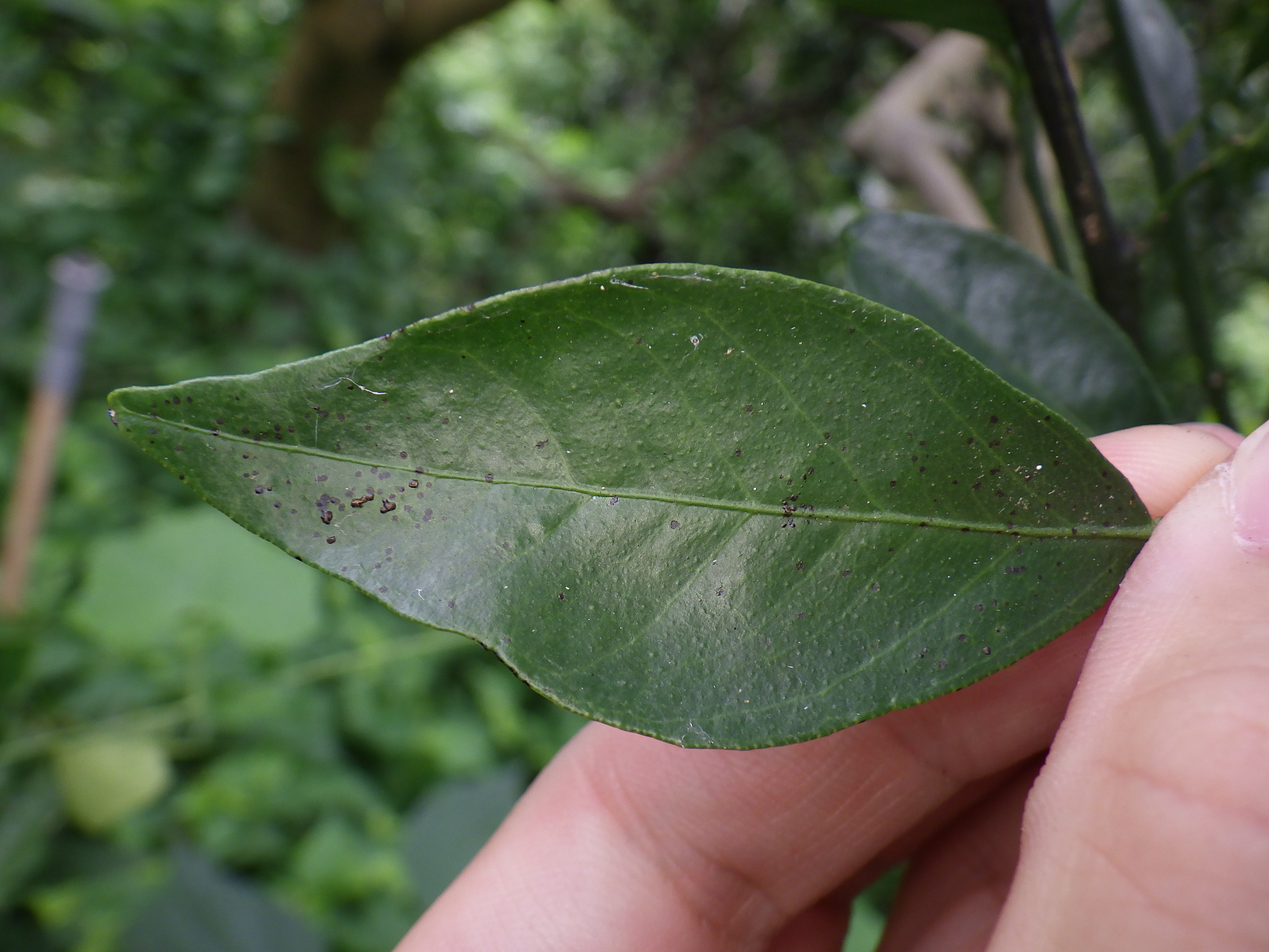Black_Spot: (110, 265, 1151, 747)
